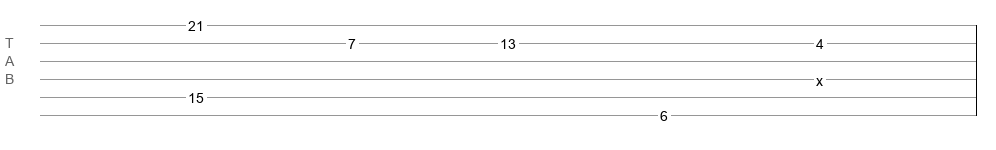13: (500, 36, 516, 46)
15: (188, 90, 204, 100)
21: (188, 18, 204, 28)
4: (816, 36, 824, 46)
6: (660, 108, 668, 118)
7: (348, 36, 356, 46)
x: (816, 73, 823, 81)
